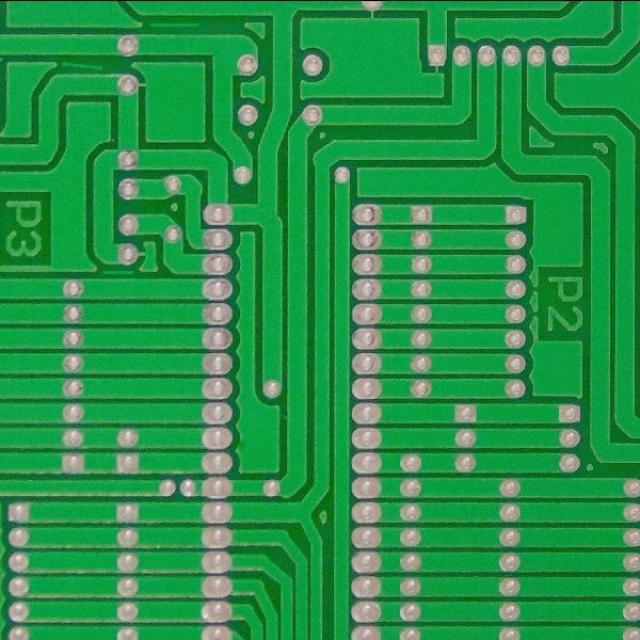spurious_copper: (145, 16, 201, 32), (58, 54, 105, 72), (96, 264, 137, 278)
